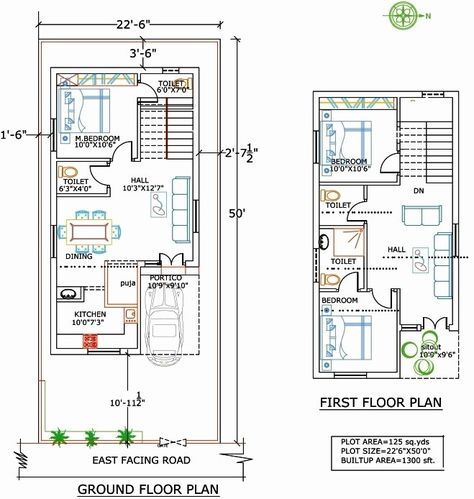door: (87, 161, 110, 186), (137, 79, 160, 104), (379, 151, 402, 176), (345, 198, 368, 223), (337, 268, 360, 293), (370, 286, 393, 311), (157, 248, 186, 266), (421, 312, 449, 329), (111, 139, 136, 158)
window: (451, 223, 459, 256), (334, 373, 367, 378)
